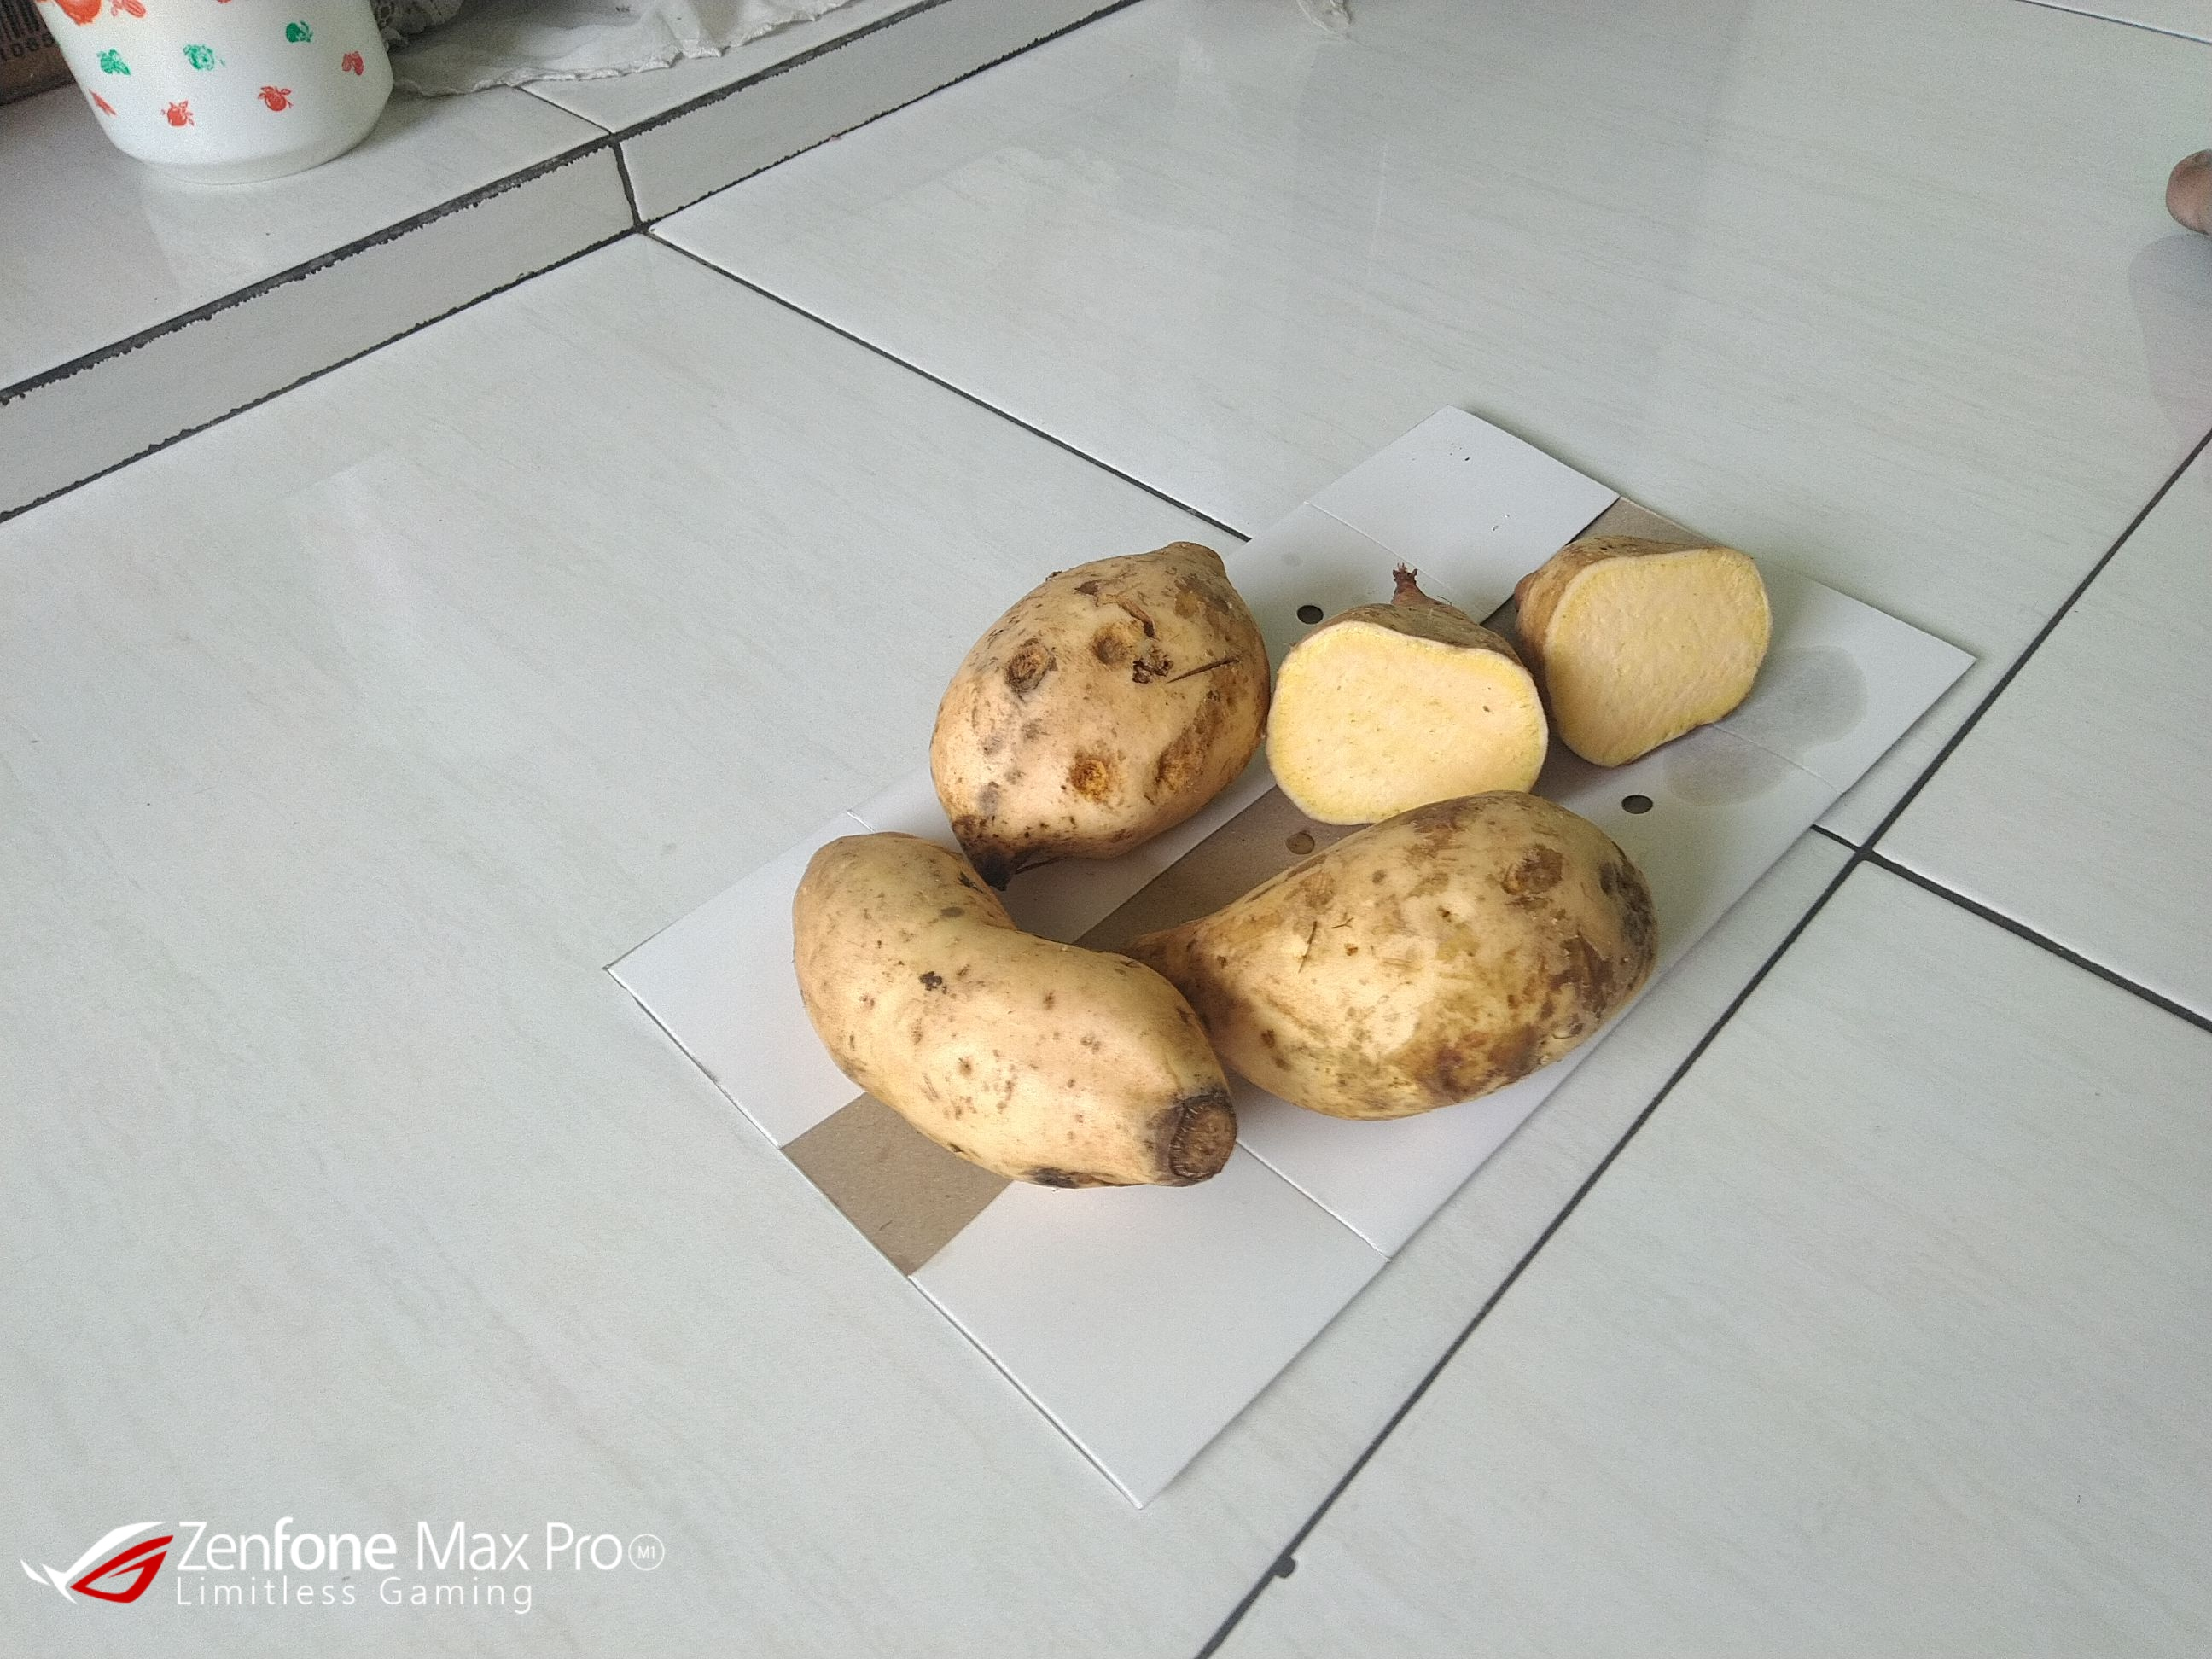ubi kuning: (1127, 779, 1679, 1121), (777, 824, 1240, 1209), (923, 532, 1268, 892), (1271, 556, 1536, 831), (1512, 533, 1784, 770)
